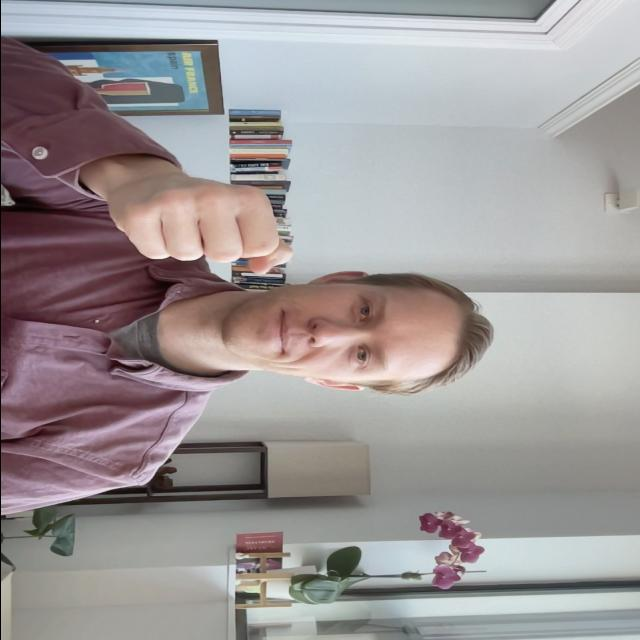Scissors: (98, 175, 302, 278)
